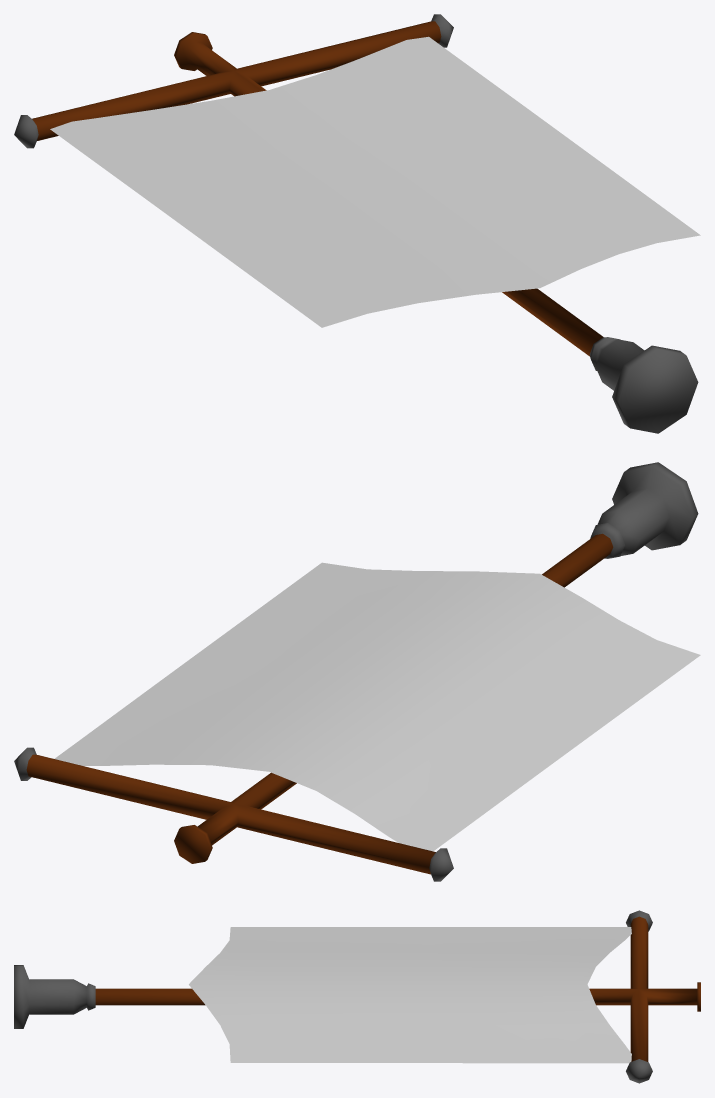
The model's file is Flag.fbx.
3 views of the same model, one above another, from view 1: azimuth 30°, elevation 25°; view 2: azimuth 150°, elevation 25°; view 3: azimuth 270°, elevation 25° (orthographic). The views are drawn at different scales.
Visible parts, largest first — view 1: Cloth, Flag; view 2: Cloth, Flag; view 3: Cloth, Flag.
Part boxes in pixels (<box>): Cloth: <box>50,36,700,327</box>; Flag: <box>14,14,698,433</box>; Cloth: <box>54,562,700,851</box>; Flag: <box>14,462,698,881</box>; Cloth: <box>189,927,631,1063</box>; Flag: <box>14,910,700,1083</box>.
Size of the model in its own units: 219 by 39.76 by 402.
